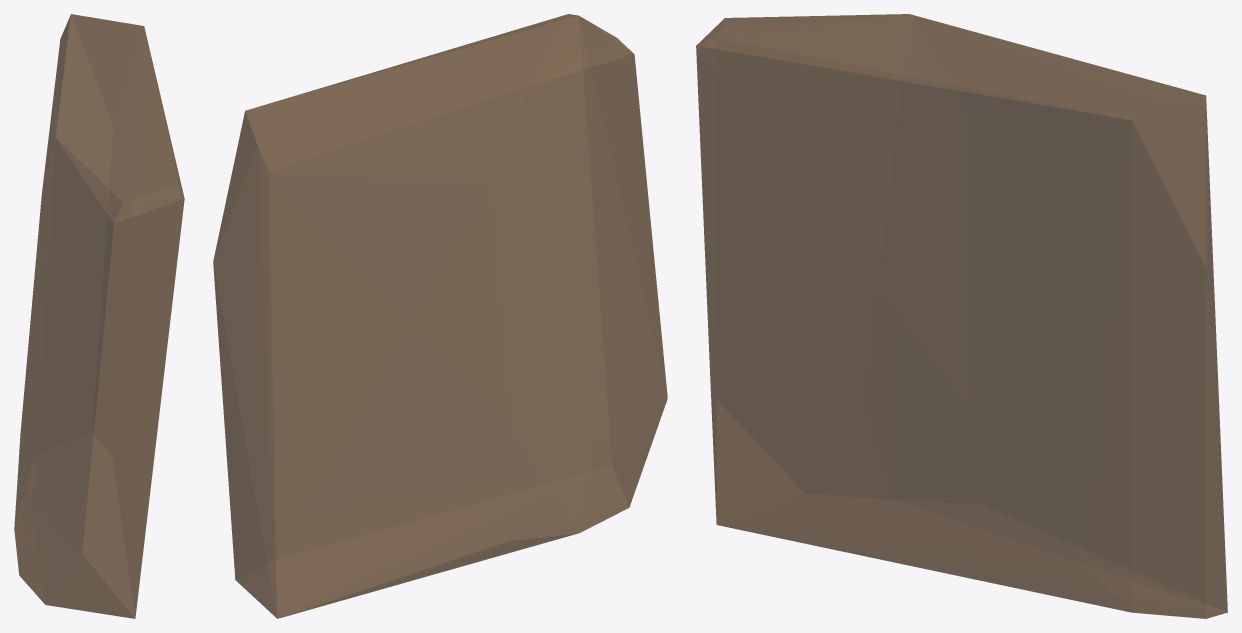
The picture shows the model from 3 angles, left to right: view 1: azimuth 30°, elevation 25°; view 2: azimuth 150°, elevation 25°; view 3: azimuth 270°, elevation 25°; orthographic projection. The views are drawn at different scales.
Visible parts, largest first — view 1: Shape_IndexedFaceSet.021_Shape_IndexedFaceSet.15634; view 2: Shape_IndexedFaceSet.021_Shape_IndexedFaceSet.15634; view 3: Shape_IndexedFaceSet.021_Shape_IndexedFaceSet.15634.
Boxes of the visible parts, box(x1,y1,x2,y2) form: Shape_IndexedFaceSet.021_Shape_IndexedFaceSet.15634: box(14, 14, 184, 618); Shape_IndexedFaceSet.021_Shape_IndexedFaceSet.15634: box(213, 14, 667, 618); Shape_IndexedFaceSet.021_Shape_IndexedFaceSet.15634: box(696, 14, 1227, 618).
Size of the model in its own units: 0.199 by 0.3595 by 0.3242.
